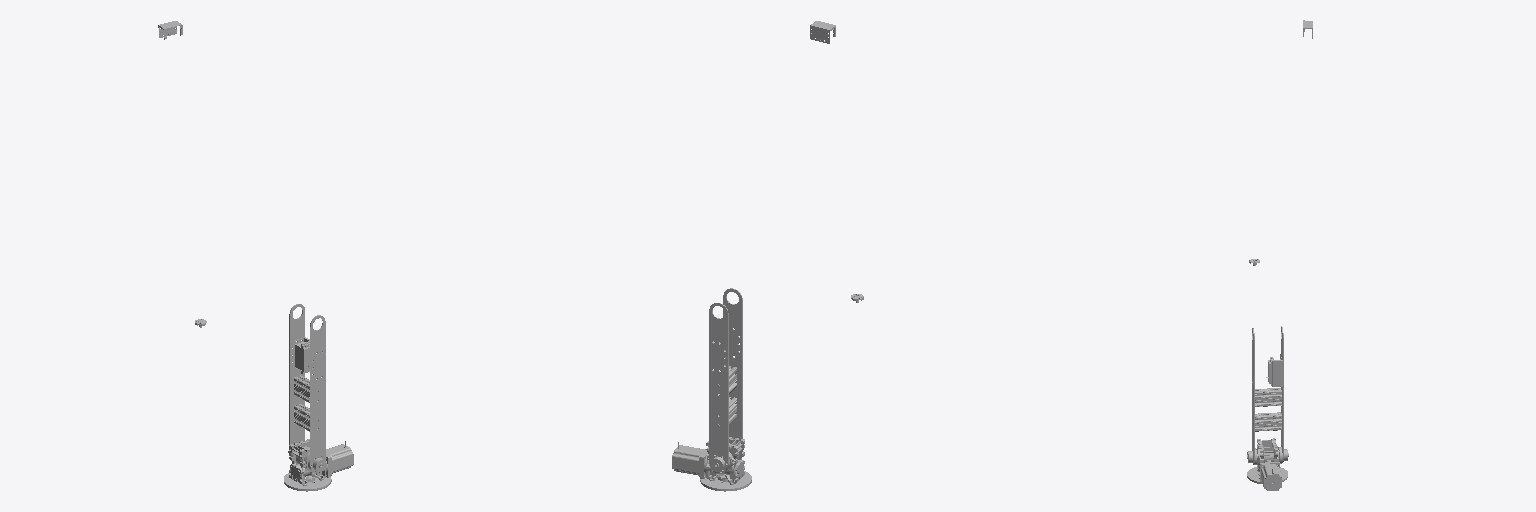
URDF robot description (robot_arm_urdf):
<?xml version="1.0" encoding="utf-8"?>
<!-- This URDF was automatically created by SolidWorks to URDF Exporter! Originally created by Stephen Brawner ([email redacted]) 
     Commit Version: 1.6.0-4-g7f85cfe  Build Version: 1.6.7995.38578
     For more information, please see http://wiki.ros.org/sw_urdf_exporter -->
<robot
  name="robot_arm_urdf">
  
  <link name="world"/>
  
  <link
    name="base_link">
    <inertial>
      <origin
        xyz="0.146303583389375 0.0227364363233699 0.0786183231131826"
        rpy="0 0 0" />
      <mass
        value="2.27847589927695" />
      <inertia
        ixx="0.00380444742254977"
        ixy="-0.000206188903864419"
        ixz="0.000150989469734131"
        iyy="0.00486443002009746"
        iyz="1.9405372408666E-05"
        izz="0.00720649909693205" />
    </inertial>
    <visual>
      <origin
        xyz="0 0 0"
        rpy="0 0 0" />
      <geometry>
        <mesh
          filename="package://robot_arm_urdf/meshes/base_link.STL" />
      </geometry>
      <material
        name="">
        <color
          rgba="0.752941176470588 0.752941176470588 0.752941176470588 1" />
      </material>
    </visual>
    <collision>
      <origin
        xyz="0 0 0"
        rpy="0 0 0" />
      <geometry>
        <mesh
          filename="package://robot_arm_urdf/meshes/base_link.STL" />
      </geometry>
    </collision>
  </link>
  
  <joint name="base_joint" type="fixed">
  	<parent link="world"/>
  	<child link="base_link"/>
  	<origin rpy="0 0 0" xyz="0.0 0.0 0.25"/>
  </joint>
  
  <link
    name="link_1">
    <inertial>
      <origin
        xyz="0.0306447925880698 0.281344566727743 0.372206162482047"
        rpy="0 0 0" />
      <mass
        value="0.641883744293896" />
      <inertia
        ixx="0.000465537868722206"
        ixy="2.92544171696999E-05"
        ixz="2.03341844754776E-05"
        iyy="0.000617295838132801"
        iyz="-3.98067161000968E-06"
        izz="0.000626361475668464" />
    </inertial>
    <visual>
      <origin
        xyz="0 0 0"
        rpy="0 0 0" />
      <geometry>
        <mesh
          filename="package://robot_arm_urdf/meshes/link_1.STL" />
      </geometry>
      <material
        name="">
        <color
          rgba="0.752941176470588 0.752941176470588 0.752941176470588 1" />
      </material>
    </visual>
    <collision>
      <origin
        xyz="0 0 0"
        rpy="0 0 0" />
      <geometry>
        <mesh
          filename="package://robot_arm_urdf/meshes/link_1.STL" />
      </geometry>
    </collision>
  </link>
  <joint
    name="joint_1"
    type="revolute">
    <origin
      xyz="0.004244 0.37679 -0.077856"
      rpy="1.5708 0 0" />
    <parent
      link="base_link" />
    <child
      link="link_1" />
    <axis
      xyz="0 1 0" />
    <limit
      lower="-3.142"
      upper="3.142"
      effort="28.35"
      velocity="5.24" />
  </joint>
  <link
    name="link_2">
    <inertial>
      <origin
        xyz="0.00995410909543785 0.173905303533361 0.0632176576099199"
        rpy="0 0 0" />
      <mass
        value="0.394669428659782" />
      <inertia
        ixx="0.00201544140173863"
        ixy="-4.81655903692797E-07"
        ixz="-5.89755045158386E-06"
        iyy="0.00014684046202116"
        iyz="1.0488729854379E-07"
        izz="0.00197252279397421" />
    </inertial>
    <visual>
      <origin
        xyz="0 0 0"
        rpy="0 0 0" />
      <geometry>
        <mesh
          filename="package://robot_arm_urdf/meshes/link_2.STL" />
      </geometry>
      <material
        name="">
        <color
          rgba="0.752941176470588 0.752941176470588 0.752941176470588 1" />
      </material>
    </visual>
    <collision>
      <origin
        xyz="0 0 0"
        rpy="0 0 0" />
      <geometry>
        <mesh
          filename="package://robot_arm_urdf/meshes/link_2.STL" />
      </geometry>
    </collision>
  </link>
  <joint
    name="joint_2"
    type="revolute">
    <origin
      xyz="-0.0129136150732728 0.308337646724069 0.307358400547654"
      rpy="0 0 0" />
    <parent
      link="link_1" />
    <child
      link="link_2" />
    <axis
      xyz="-0.125391445630158 0 -0.992107345685324" />
    <limit
      lower="-1.57"
      upper="1.57"
      effort="28.35"
      velocity="5.24" />
  </joint>
  <link
    name="link_3">
    <inertial>
      <origin
        xyz="-0.101730833124941 -0.00013569897650012 0.112485387666801"
        rpy="0 0 0" />
      <mass
        value="0.259256412516919" />
      <inertia
        ixx="8.82055214106673E-05"
        ixy="1.91288092550191E-08"
        ixz="0.000147246406091982"
        iyy="0.0012487740196317"
        iyz="5.73285944186787E-08"
        izz="0.0012348363247349" />
    </inertial>
    <visual>
      <origin
        xyz="0 0 0"
        rpy="0 0 0" />
      <geometry>
        <mesh
          filename="package://robot_arm_urdf/meshes/link_3.STL" />
      </geometry>
      <material
        name="">
        <color
          rgba="0.752941176470588 0.752941176470588 0.752941176470588 1" />
      </material>
    </visual>
    <collision>
      <origin
        xyz="0 0 0"
        rpy="0 0 0" />
      <geometry>
        <mesh
          filename="package://robot_arm_urdf/meshes/link_3.STL" />
      </geometry>
    </collision>
  </link>
  <joint
    name="joint_3"
    type="revolute">
    <origin
      xyz="-0.0040937973882068 0.406399999999999 -0.0323904588559681"
      rpy="0 0 0" />
    <parent
      link="link_2" />
    <child
      link="link_3" />
    <axis
      xyz="-0.125391445630158 0 -0.992107345685324" />
    <limit
      lower="-1"
      upper="3.14"
      effort="7.85"
      velocity="6.54" />
  </joint>
  <link
    name="link_4">
    <inertial>
      <origin
        xyz="0.00956075507296156 0.028864624504545 0.0735538720173586"
        rpy="0 0 0" />
      <mass
        value="0.18731544221453" />
      <inertia
        ixx="0.000131172951702039"
        ixy="4.79991337558464E-09"
        ixz="-3.82564484824128E-06"
        iyy="0.000133438325492828"
        iyz="1.72597973055121E-08"
        izz="0.000105908438964448" />
    </inertial>
    <visual>
      <origin
        xyz="0 0 0"
        rpy="0 0 0" />
      <geometry>
        <mesh
          filename="package://robot_arm_urdf/meshes/link_4.STL" />
      </geometry>
      <material
        name="">
        <color
          rgba="0.752941176470588 0.752941176470588 0.752941176470588 1" />
      </material>
    </visual>
    <collision>
      <origin
        xyz="0 0 0"
        rpy="0 0 0" />
      <geometry>
        <mesh
          filename="package://robot_arm_urdf/meshes/link_4.STL" />
      </geometry>
    </collision>
  </link>
  <joint
    name="joint_4"
    type="revolute">
    <origin
      xyz="-0.344415980373364 0 0.0713450468234001"
      rpy="0 0 0" />
    <parent
      link="link_3" />
    <child
      link="link_4" />
    <axis
      xyz="-0.125391445630158 0 -0.992107345685324" />
    <limit
      lower="-3.14"
      upper="0"
      effort="2.45"
      velocity="8.08" />
  </joint>
  <link
    name="link_5">
    <inertial>
      <origin
        xyz="-4.27844132344646E-09 0.013259123530174 2.67440514178929E-09"
        rpy="0 0 0" />
      <mass
        value="0.00352439273827263" />
      <inertia
        ixx="2.30460116989414E-07"
        ixy="4.50680847413183E-13"
        ixz="4.85236076885767E-12"
        iyy="3.99508652333463E-07"
        iyz="5.01163318609839E-13"
        izz="2.30445970855517E-07" />
    </inertial>
    <visual>
      <origin
        xyz="0 0 0"
        rpy="0 0 0" />
      <geometry>
        <mesh
          filename="package://robot_arm_urdf/meshes/link_5.STL" />
      </geometry>
      <material
        name="">
        <color
          rgba="0.752941176470588 0.752941176470588 0.752941176470588 1" />
      </material>
    </visual>
    <collision>
      <origin
        xyz="0 0 0"
        rpy="0 0 0" />
      <geometry>
        <mesh
          filename="package://robot_arm_urdf/meshes/link_5.STL" />
      </geometry>
    </collision>
  </link>
  <joint
    name="joint_5"
    type="revolute">
    <origin
      xyz="0.00886960764909822 0.0715224872569122 0.0701770591910485"
      rpy="0 0 0" />
    <parent
      link="link_4" />
    <child
      link="link_5" />
    <axis
      xyz="0 -1 0" />
    <limit
      lower="-3.14"
      upper="3.14"
      effort="2.45"
      velocity="8.08" />
  </joint>
  
  <transmission name="link_1_trans">
  	<type>transmission_interface/SimpleTransmission</type>
  	<joint name="joint_1">
  		<hardwareInterface>hardware_interface/PositionJointInterface</hardwareInterface>
  	</joint>
  	<actuator name="link_1_motor">
  		<hardwareInterface>hardware_interface/PositionJointInterface</hardwareInterface>
  		<mechanicalReduction>1</mechanicalReduction>
  	</actuator>
  </transmission>
  
  <transmission name="link_2_trans">
  	<type>transmission_interface/SimpleTransmission</type>
  	<joint name="joint_2">
  		<hardwareInterface>hardware_interface/PositionJointInterface</hardwareInterface>
  	</joint>
  	<actuator name="link_2_motor">
  		<hardwareInterface>hardware_interface/PositionJointInterface</hardwareInterface>
  		<mechanicalReduction>1</mechanicalReduction>
  	</actuator>
  </transmission>
  
  <transmission name="link_3_trans">
  	<type>transmission_interface/SimpleTransmission</type>
  	<joint name="joint_3">
  		<hardwareInterface>hardware_interface/PositionJointInterface</hardwareInterface>
  	</joint>
  	<actuator name="link_3_motor">
  		<hardwareInterface>hardware_interface/PositionJointInterface</hardwareInterface>
  		<mechanicalReduction>1</mechanicalReduction>
  	</actuator>
  </transmission>
  
  <transmission name="link_4_trans">
  	<type>transmission_interface/SimpleTransmission</type>
  	<joint name="joint_4">
  		<hardwareInterface>hardware_interface/PositionJointInterface</hardwareInterface>
  	</joint>
  	<actuator name="link_4_motor">
  		<hardwareInterface>hardware_interface/PositionJointInterface</hardwareInterface>
  		<mechanicalReduction>1</mechanicalReduction>
  	</actuator>
  </transmission>
  
  <transmission name="link_5_trans">
  	<type>transmission_interface/SimpleTransmission</type>
  	<joint name="joint_5">
  		<hardwareInterface>hardware_interface/PositionJointInterface</hardwareInterface>
  	</joint>
  	<actuator name="link_5_motor">
  		<hardwareInterface>hardware_interface/PositionJointInterface</hardwareInterface>
  		<mechanicalReduction>1</mechanicalReduction>
  	</actuator>
  </transmission>
  
  <gazebo>
  	<plugin name="control" filename="libgazebo_ros_control.so">
  		<robotNamespace>/</robotNamespace>
  	</plugin>
  </gazebo>
  
  <gazebo reference="link_1">
  	<selfCollide>true</selfCollide>
  </gazebo>
  
  <gazebo reference="link_2">
  	<selfCollide>true</selfCollide>
  </gazebo>
  
  <gazebo reference="link_3">
  	<selfCollide>true</selfCollide>
  </gazebo>
  
  <gazebo reference="link_4">
  	<selfCollide>true</selfCollide>
  </gazebo>
  
  <gazebo reference="link_5">
  	<selfCollide>true</selfCollide>
  </gazebo>
  
</robot>

--- Render facts (derived) ---
Views: 3 orthographic renders of the robot side by side, from view 1: azimuth 30°, elevation 25°; view 2: azimuth 150°, elevation 25°; view 3: azimuth 270°, elevation 25°.
Robot: robot_arm_urdf — 7 links, 6 joints (5 revolute, 1 fixed); root link world; default pose: all joints at 0.
Links seen in each view (by area): view 1: link_2, link_1; view 2: link_2, link_1; view 3: link_2, link_1.
Boxes of the visible links, bbox=[...] form: link_2: bbox=[288, 304, 326, 472]; link_1: bbox=[284, 439, 353, 491]; link_2: bbox=[709, 288, 742, 471]; link_1: bbox=[672, 437, 751, 491]; link_2: bbox=[1247, 326, 1288, 464]; link_1: bbox=[1247, 438, 1287, 490].
Size in the robot's own frame: 0.5075 by 0.2037 by 1.37 metres.
4 mesh visuals loaded from 6 distinct referenced files (4 binary STL); not drawn: 1 (reference not matched to a file when rendering), 1 (file found but could not be loaded).
